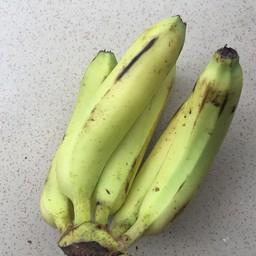Good_banana: (38, 40, 249, 254)
